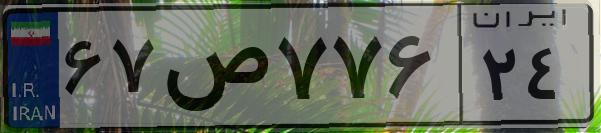2: (475, 38, 525, 113)
4: (525, 38, 570, 115)
6: (385, 28, 445, 110), (57, 26, 110, 100)
7: (270, 28, 330, 110), (330, 28, 385, 110), (110, 28, 158, 98)
ص: (158, 20, 270, 120)
